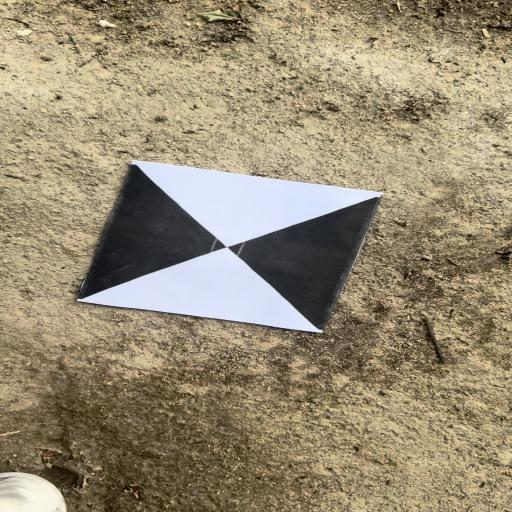target: (77, 160, 382, 329)
